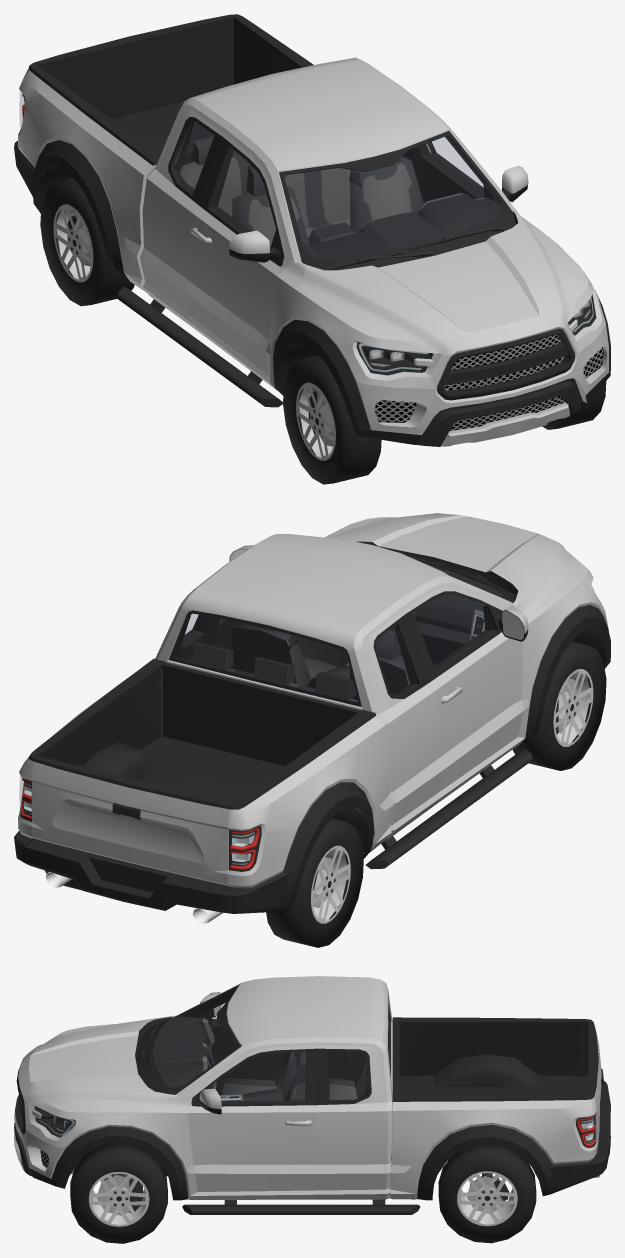
File: RealisticCar04_HD_LOD3.FBX
The picture shows the model from 3 angles, top to bottom: view 1: azimuth 30°, elevation 25°; view 2: azimuth 150°, elevation 25°; view 3: azimuth 270°, elevation 25°; orthographic projection. The views are drawn at different scales.
Parts seen in each view (by area): view 1: Car04_Body_LOD3, Car04_Interior_LOD3, Car04_Door_Front_Right_LOD3, Car04_Door_Back_LOD3, Car04_Door_Rear_Right_LOD3, Wheel_Front_Right_LOD3, Wheel_Rear_Right_LOD3, Car04_Door_Front_Left_LOD3, Wheel_Front_Left_LOD3; view 2: Car04_Body_LOD3, Car04_Door_Back_LOD3, Car04_Door_Front_Right_LOD3, Car04_Interior_LOD3, Car04_Door_Rear_Right_LOD3, Wheel_Rear_Right_LOD3, Wheel_Front_Right_LOD3, Car04_Door_Rear_Left_LOD3, Car04_Door_Front_Left_LOD3; view 3: Car04_Body_LOD3, Car04_Door_Front_Left_LOD3, Car04_Door_Rear_Left_LOD3, Car04_Interior_LOD3, Wheel_Front_Left_LOD3, Wheel_Rear_Left_LOD3, Car04_Door_Front_Right_LOD3, Car04_Door_Back_LOD3, Car04_Door_Rear_Right_LOD3, Car04_BrakeDisc_Front_Left_LOD3, Car04_BrakeDisc_Rear_Left_LOD3.
Boxes of the visible parts, x1,y1,x2,y2 form: Car04_Body_LOD3: [14, 14, 610, 446]; Car04_Interior_LOD3: [175, 120, 504, 258]; Car04_Door_Front_Right_LOD3: [185, 133, 287, 385]; Car04_Door_Back_LOD3: [34, 14, 233, 119]; Car04_Door_Rear_Right_LOD3: [143, 108, 233, 327]; Wheel_Front_Right_LOD3: [283, 355, 381, 484]; Wheel_Rear_Right_LOD3: [40, 177, 134, 306]; Car04_Door_Front_Left_LOD3: [421, 141, 528, 215]; Wheel_Front_Left_LOD3: [542, 381, 606, 429]; Car04_Body_LOD3: [14, 513, 610, 923]; Car04_Door_Back_LOD3: [31, 756, 233, 885]; Car04_Door_Front_Right_LOD3: [403, 587, 528, 805]; Car04_Interior_LOD3: [174, 561, 503, 702]; Car04_Door_Rear_Right_LOD3: [364, 611, 443, 836]; Wheel_Rear_Right_LOD3: [266, 818, 363, 947]; Wheel_Front_Right_LOD3: [512, 641, 606, 770]; Car04_Door_Rear_Left_LOD3: [154, 614, 220, 660]; Car04_Door_Front_Left_LOD3: [217, 545, 253, 668]; Car04_Body_LOD3: [14, 976, 610, 1214]; Car04_Door_Front_Left_LOD3: [187, 1045, 317, 1199]; Car04_Door_Rear_Left_LOD3: [317, 1045, 383, 1199]; Car04_Interior_LOD3: [152, 986, 390, 1101]; Wheel_Front_Left_LOD3: [70, 1144, 167, 1243]; Wheel_Rear_Left_LOD3: [438, 1145, 536, 1243]; Car04_Door_Front_Right_LOD3: [198, 992, 285, 1094]; Car04_Door_Back_LOD3: [588, 1022, 603, 1151]; Car04_Door_Rear_Right_LOD3: [329, 1051, 364, 1080]; Car04_BrakeDisc_Front_Left_LOD3: [96, 1175, 131, 1215]; Car04_BrakeDisc_Rear_Left_LOD3: [466, 1176, 505, 1213].
Bounding box in the file's own units: 2.55 × 5.87 × 2.08.
